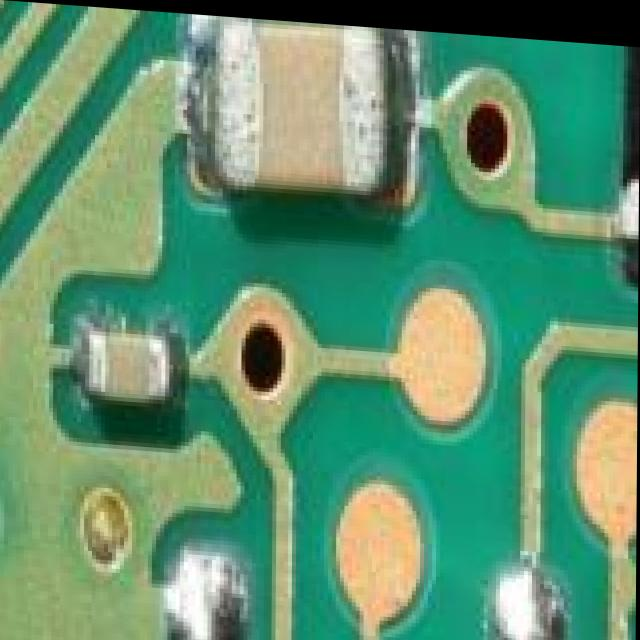capacitor: (203, 12, 408, 228), (78, 325, 182, 439)
resistor: (631, 37, 640, 253)
transistor: (76, 565, 329, 640), (412, 580, 637, 640)
